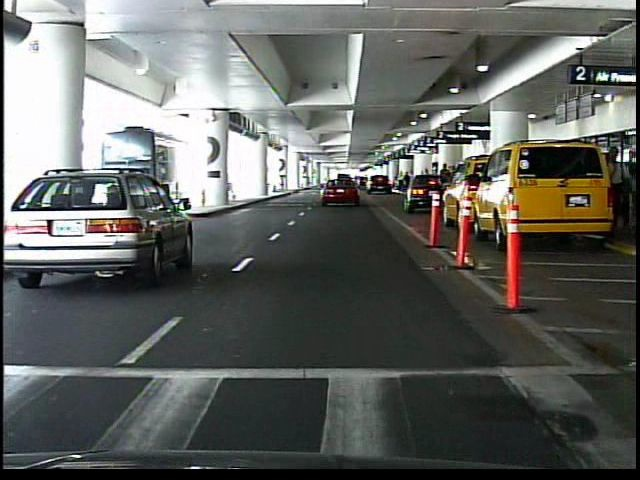person: (437, 161, 455, 209)
